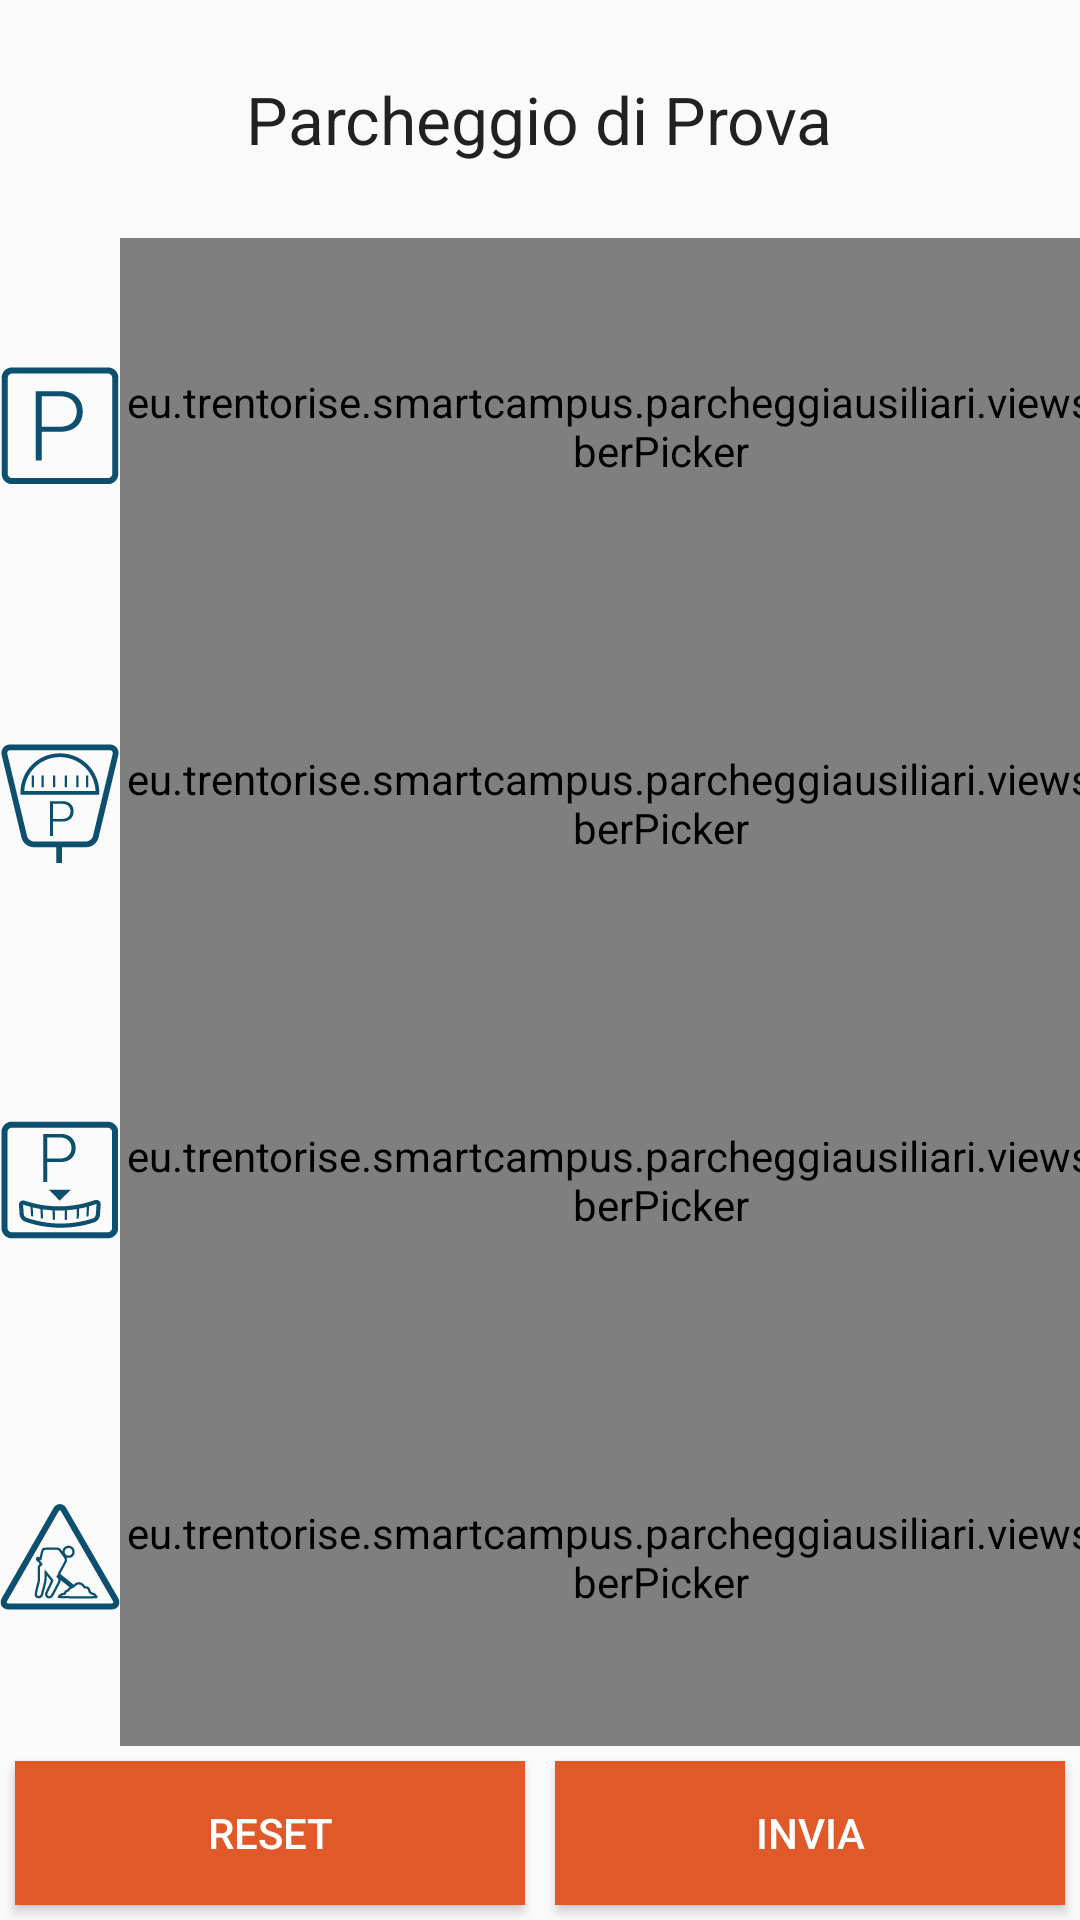

Icon click points for this 1080 × 1920 phone screenshot, format (x=x, y=y):
disco orario: (x=59, y=1180)
lavori: (x=60, y=1557)
parchimetro: (x=60, y=803)
parking: (x=60, y=425)
